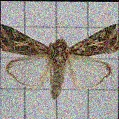Spodoptera litura: (0, 22, 118, 101)
